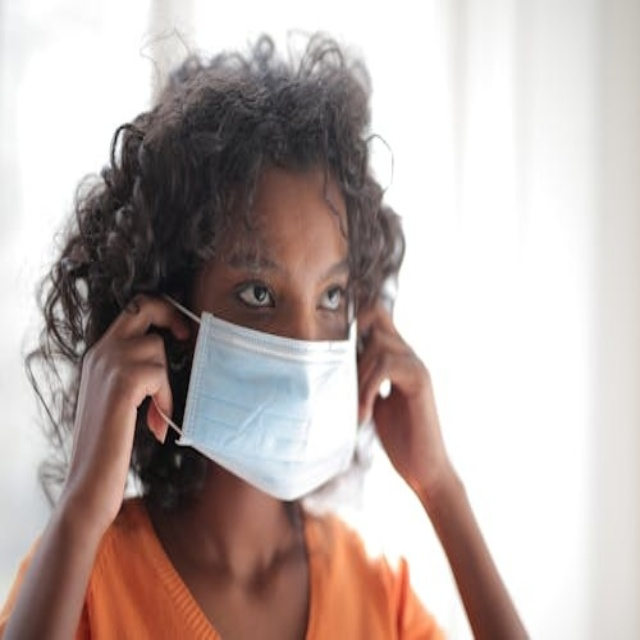Mascara: (157, 294, 363, 502)
Sin_gafas: (225, 240, 348, 327)
Sin_guantes: (59, 288, 191, 515), (360, 298, 449, 488)
